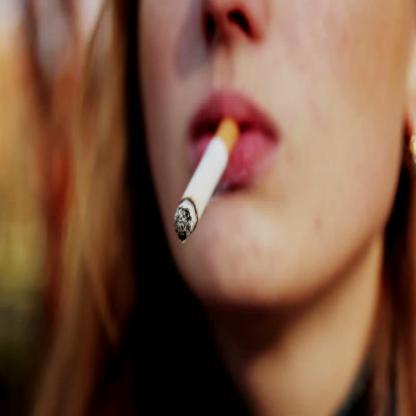cigarette: (172, 117, 242, 243)
